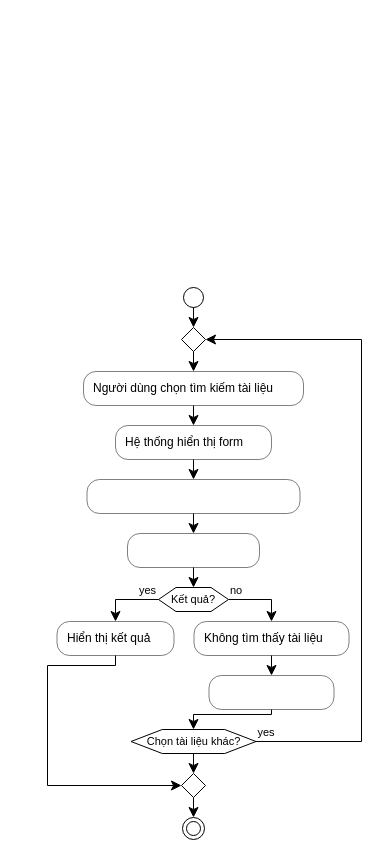
Image size: 389x857. Some labels were removed from this diagram. Each missing label, with the centre of its shape:
"Chọn tài liệu khác" goes at point 271,692.
"Hệ thống tìm kiếm" goes at point 193,550.
"Người dùng nhập tài liệu cần tìm" goes at point 193,496.
